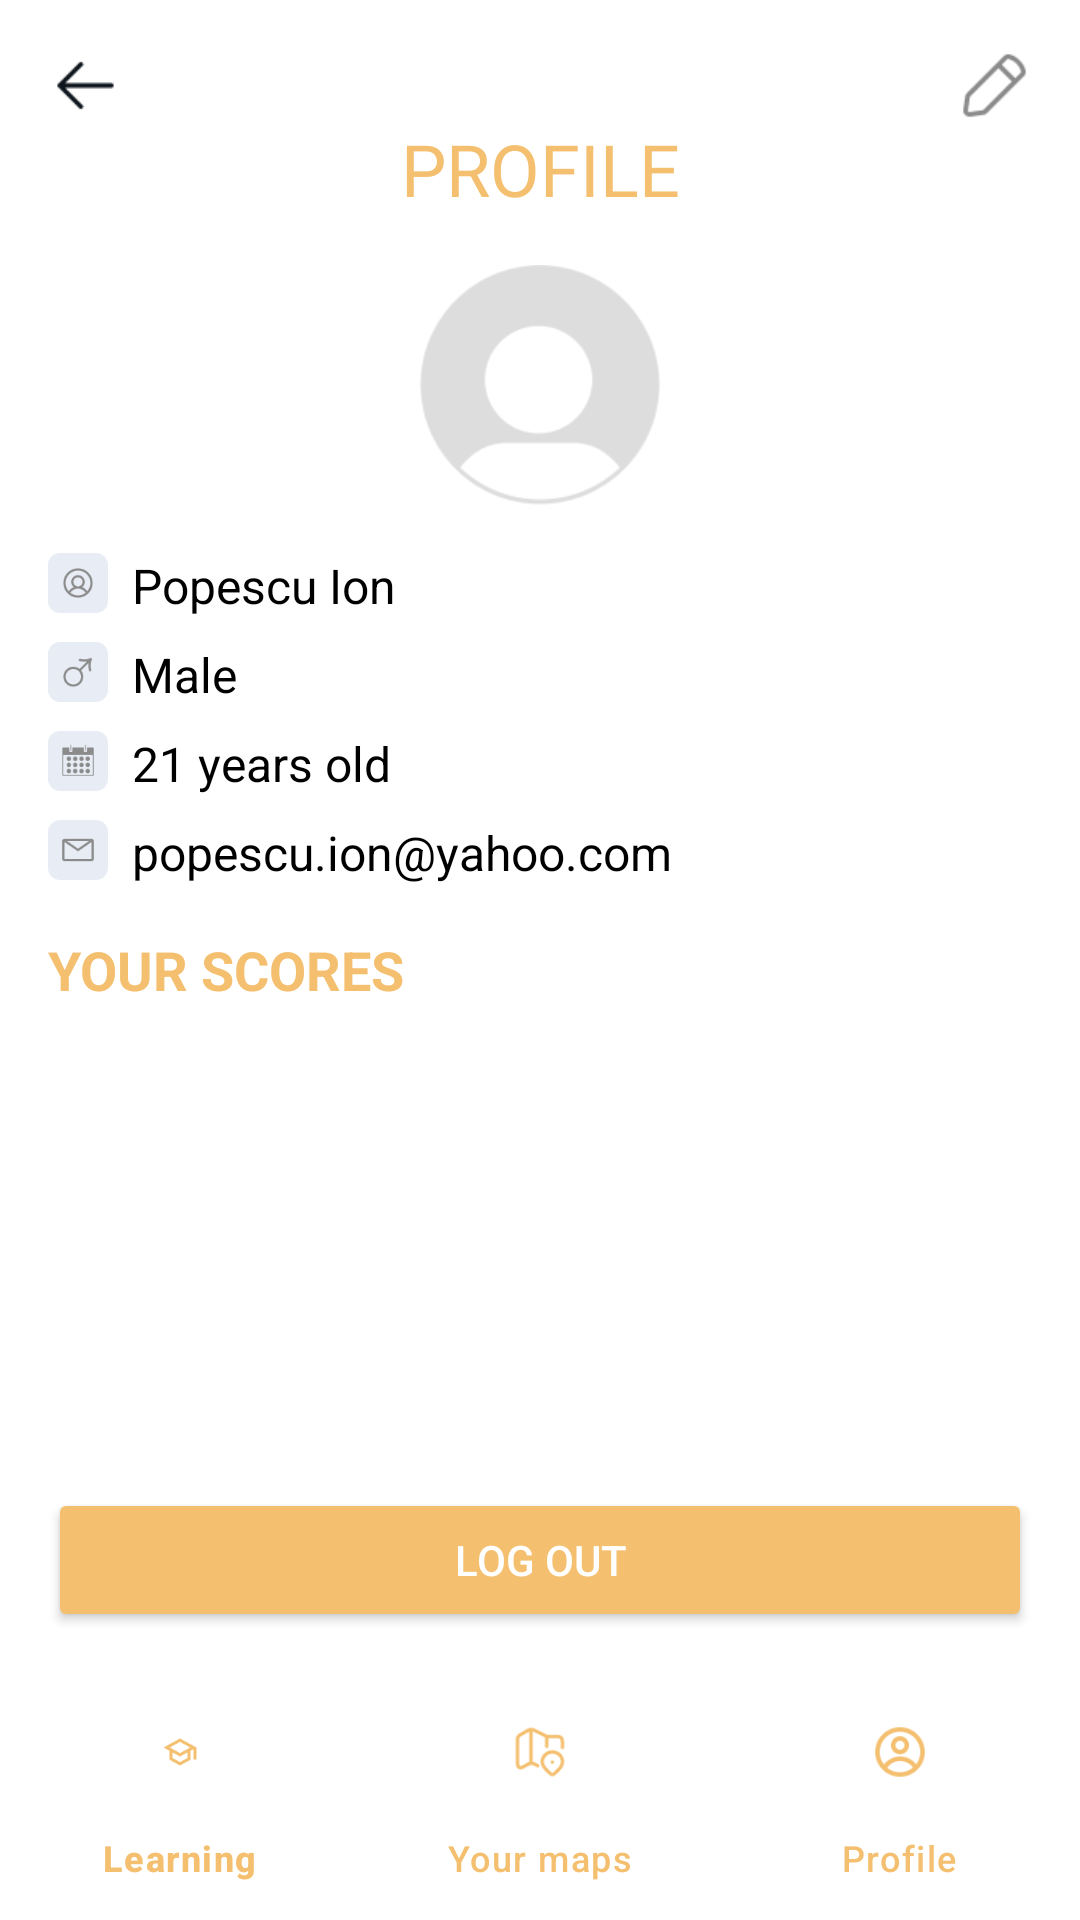

Screen size 1080×1920. Icon name, then its center in pixels as (x,y):
Back: (85,85)
calendar: (78,760)
Edit Profile: (994,85)
email: (78,850)
gender: (78,672)
user: (78,583)
